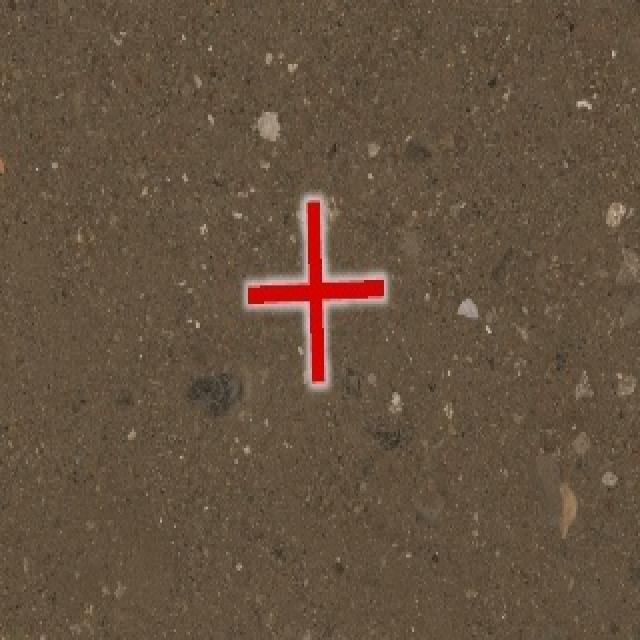x_marker: (247, 198, 383, 382)
